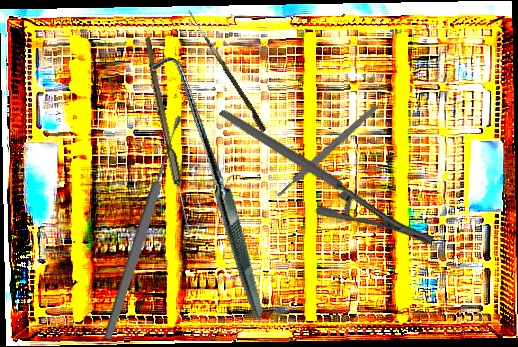Hook Surgical: (78, 51, 338, 320), (182, 9, 269, 133)
Needle Holder: (218, 56, 437, 297)
Scalpel Handle: (274, 103, 380, 199)
Surgical Spoon: (101, 113, 186, 342), (140, 36, 195, 236)
